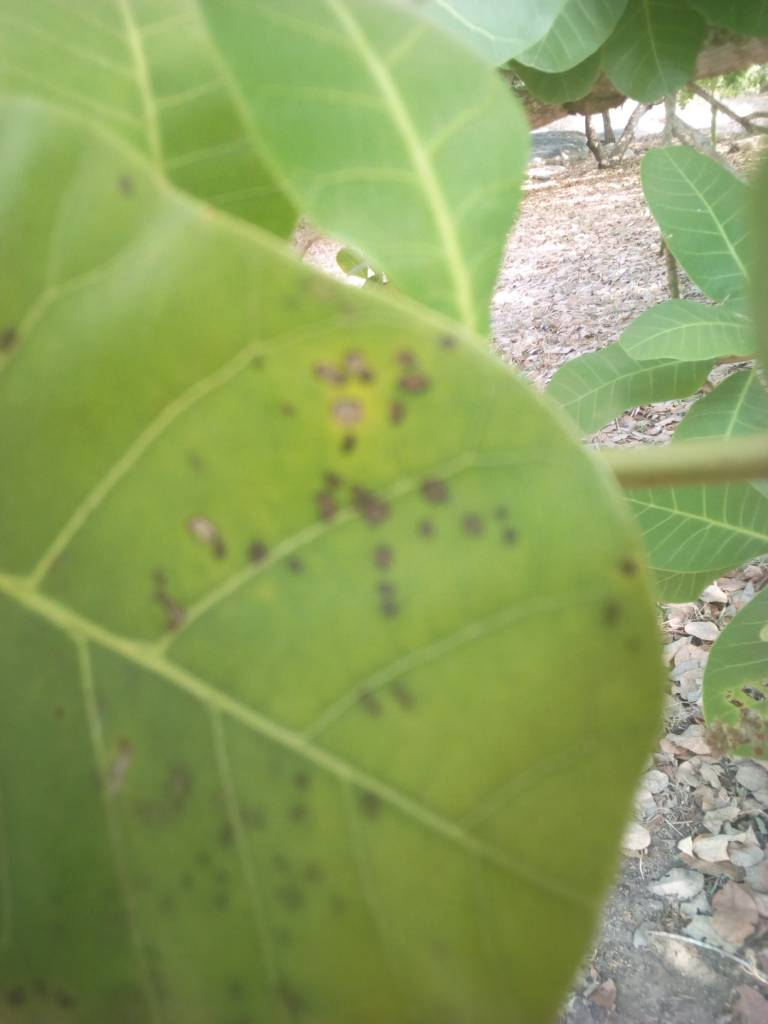Anthracnose: (77, 288, 654, 1024)
